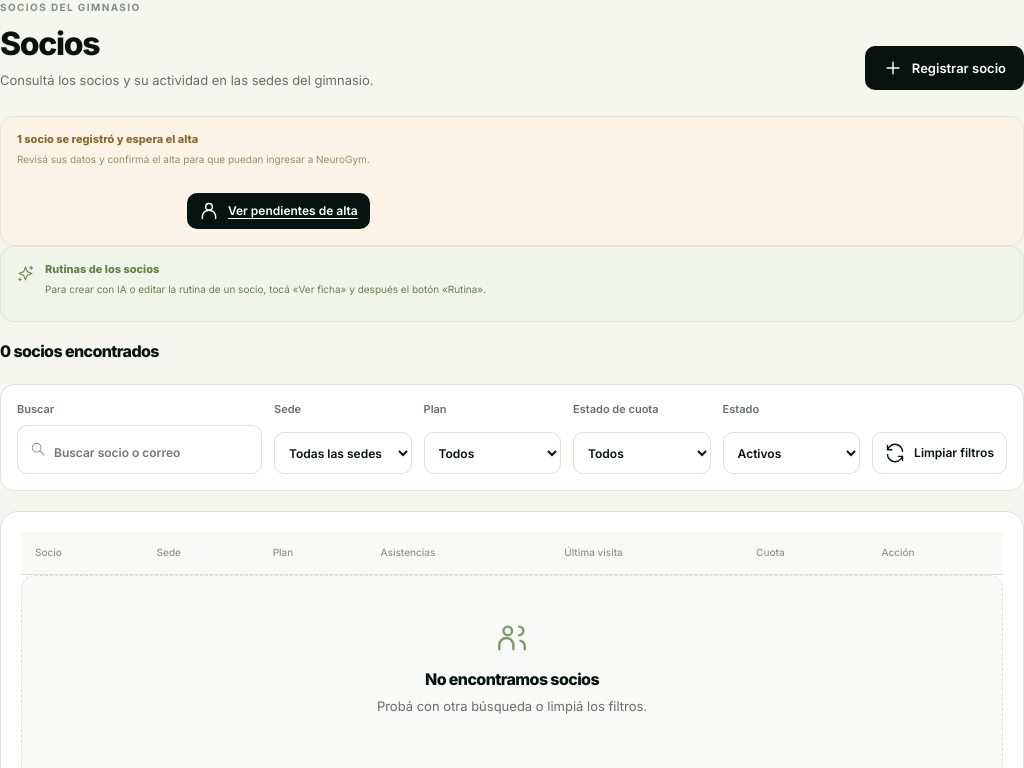
Test case: Socios: confirmación del alta › dar de alta (respuesta 204 sin cuerpo) cierra la revisión y saca al socio de los pendientes
Click the button "Ver pendientes de alta". click: [278, 211]
box: top-left (187, 193), bottom-right (370, 229)
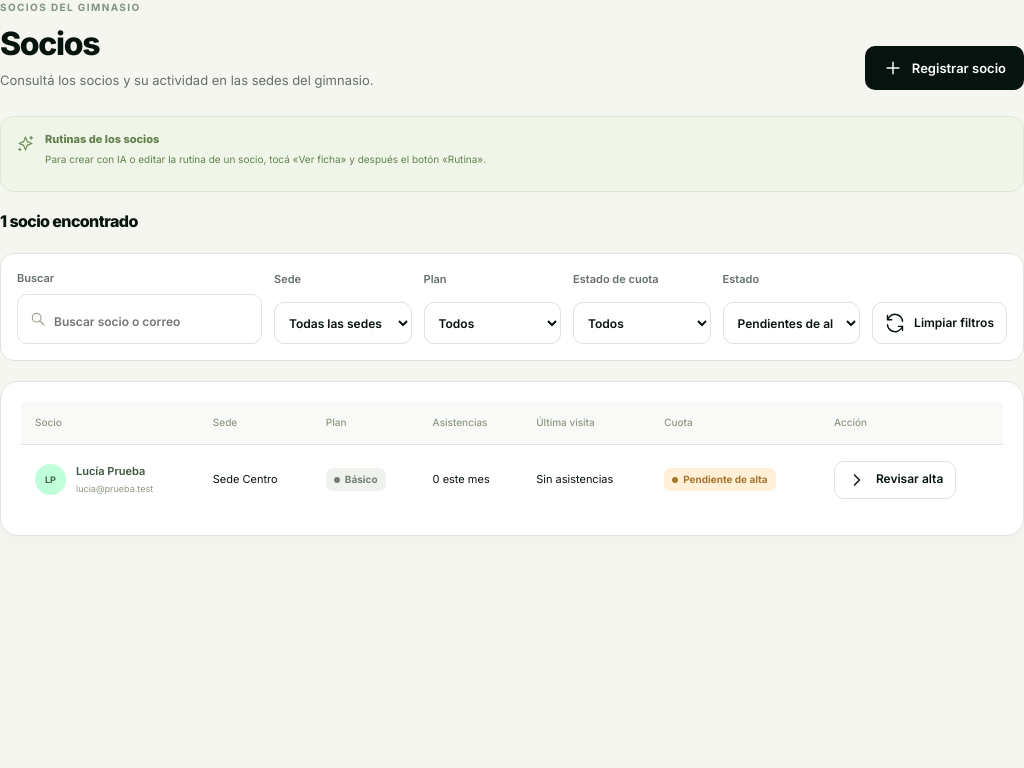
Click the button "Revisar alta". click: [895, 480]
box: top-left (834, 460), bottom-right (956, 498)
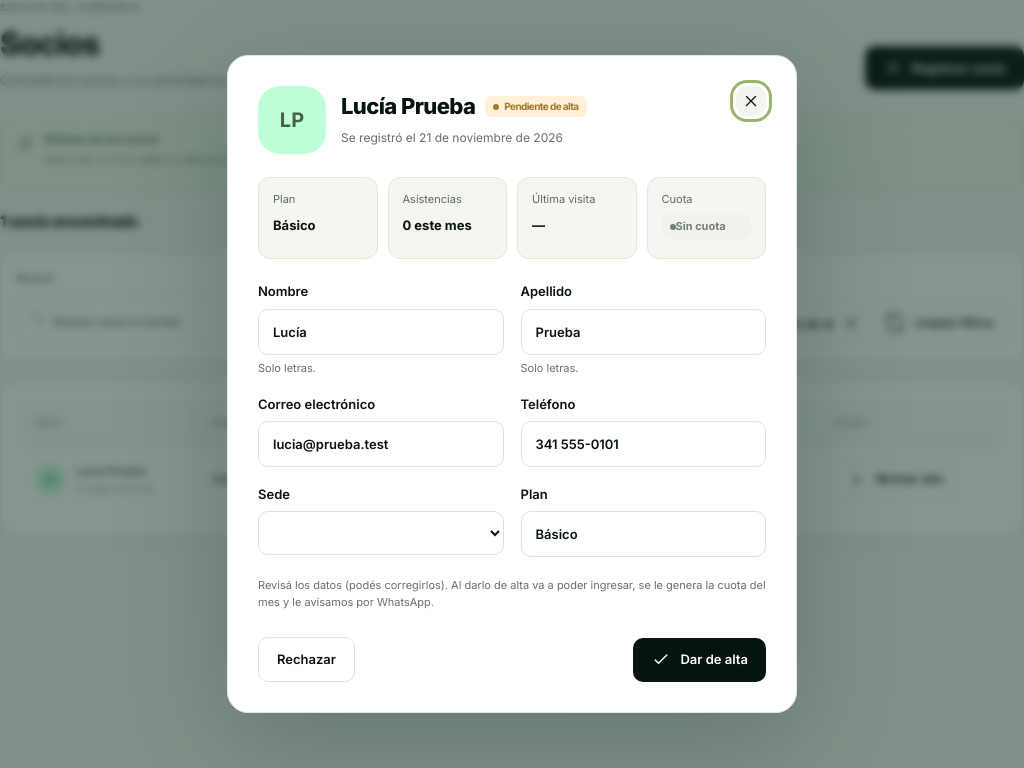
Click the button "Dar de alta". click: [700, 660]
box: top-left (634, 638), bottom-right (766, 682)
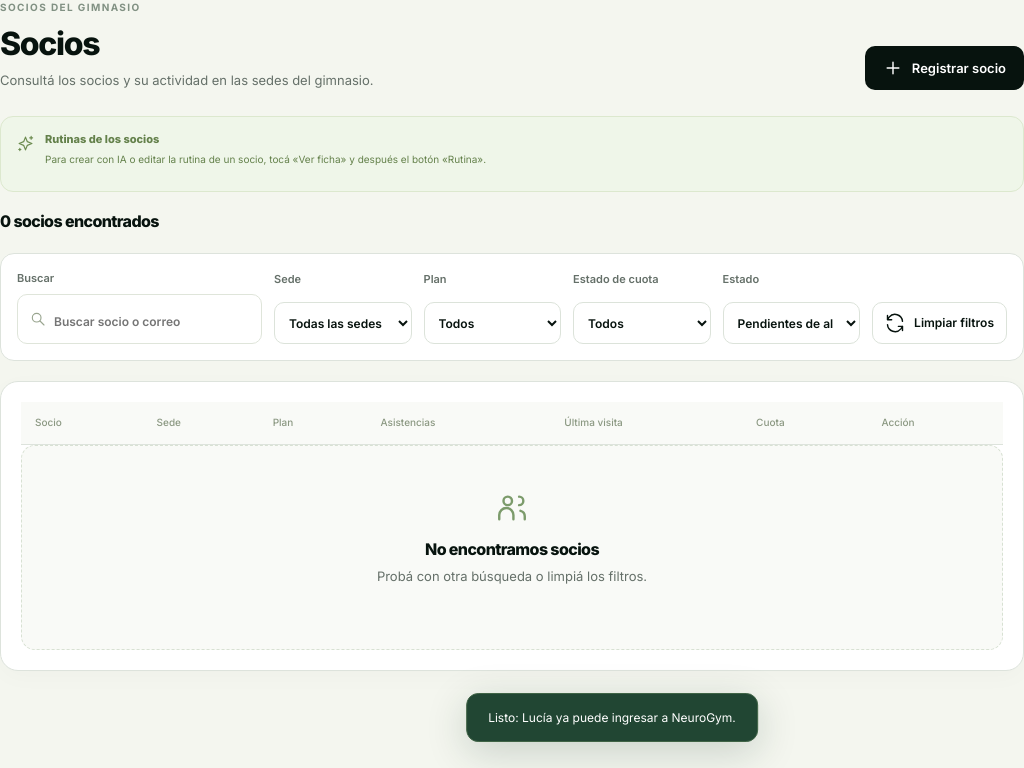
Now the dialog is gone
Now the text "lucia@prueba.test" is gone
